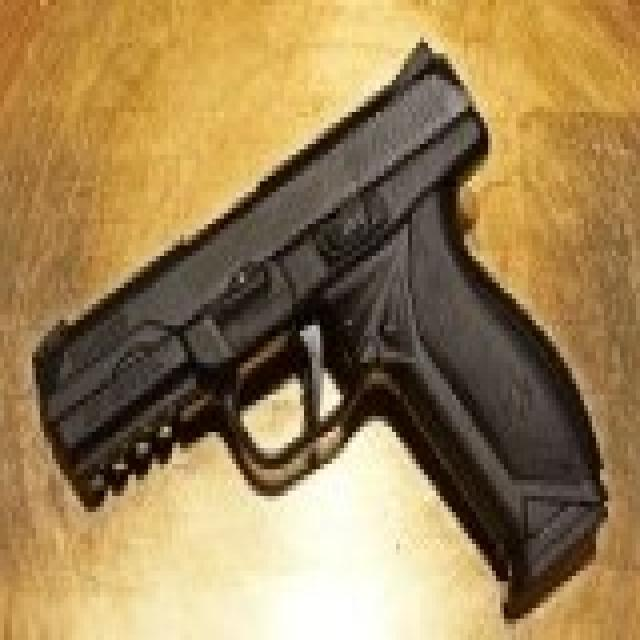Gun: (18, 63, 599, 601)
